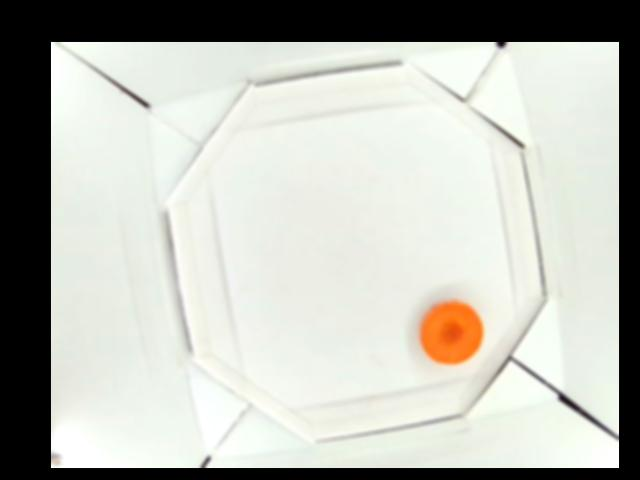Carrot: (422, 301, 484, 361)
